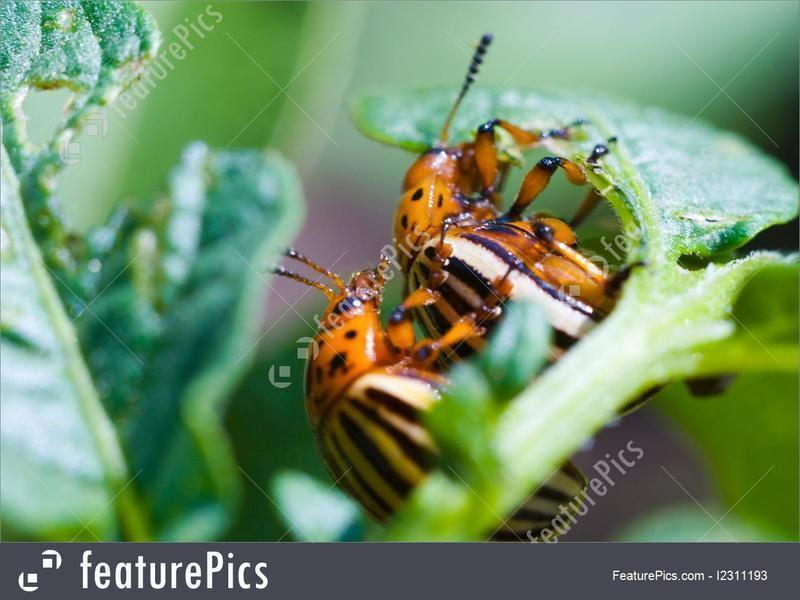hrosc: (368, 102, 621, 365), (256, 252, 451, 511)
